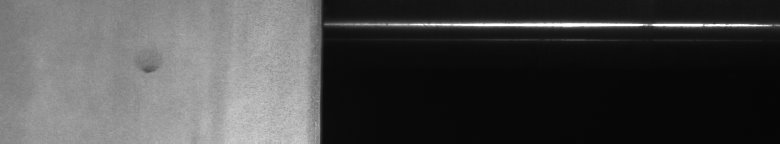fi: (139, 63, 158, 80)
